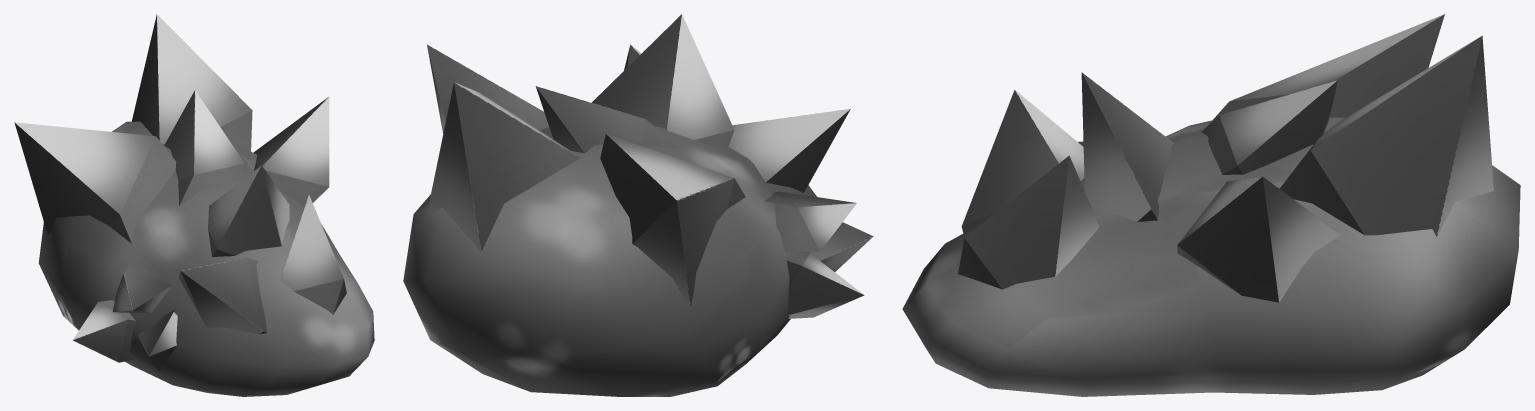
The model's file is ore_chunk.fbx.
3 renders of one model, left to right at view 1: azimuth 30°, elevation 25°; view 2: azimuth 150°, elevation 25°; view 3: azimuth 270°, elevation 25°, orthographic. The views are drawn at different scales.
Visible parts, largest first — view 1: IronOre; view 2: IronOre; view 3: IronOre.
Boxes of the visible parts, x1,y1,x2,y2 form: IronOre: [14, 14, 374, 396]; IronOre: [403, 14, 873, 396]; IronOre: [902, 14, 1520, 396].
Bounding box in the file's own units: 4.14 × 3.44 × 5.21.
